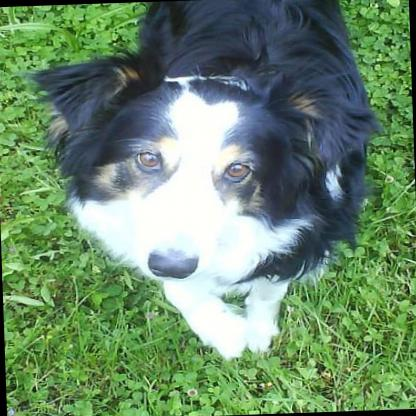Border_collie: (16, 0, 388, 364)
